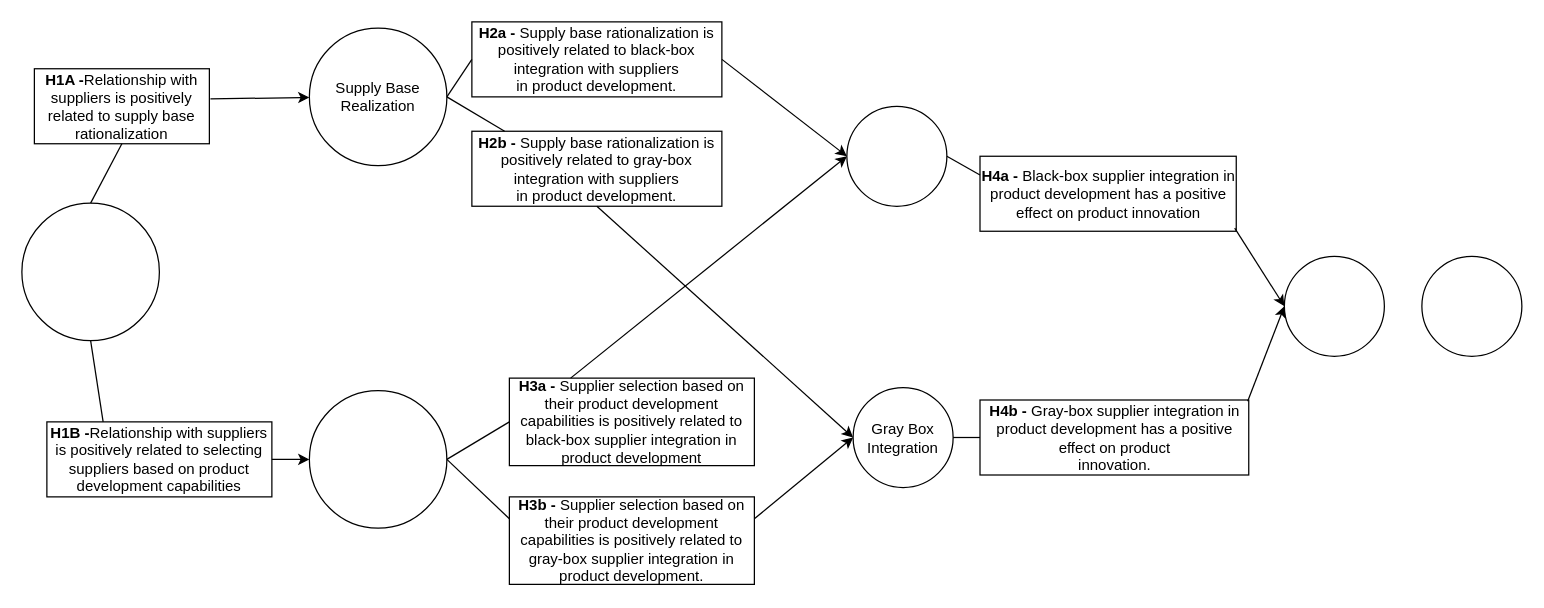
Image size: 1544x608. Some labels were removed from this diagram. The shapes that lost their labels are listed below. From the top down, each one's centre as x and y in pixels, then its label:
At [896,155]: "Black Box Integration".
At [90,271]: "Embeddedness with Suppliers".
At [1333,305]: "Product Innovation".
At [1471,305]: "External Quality".
At [377,458]: "Supplier Selection Based on Product Development Capability".
